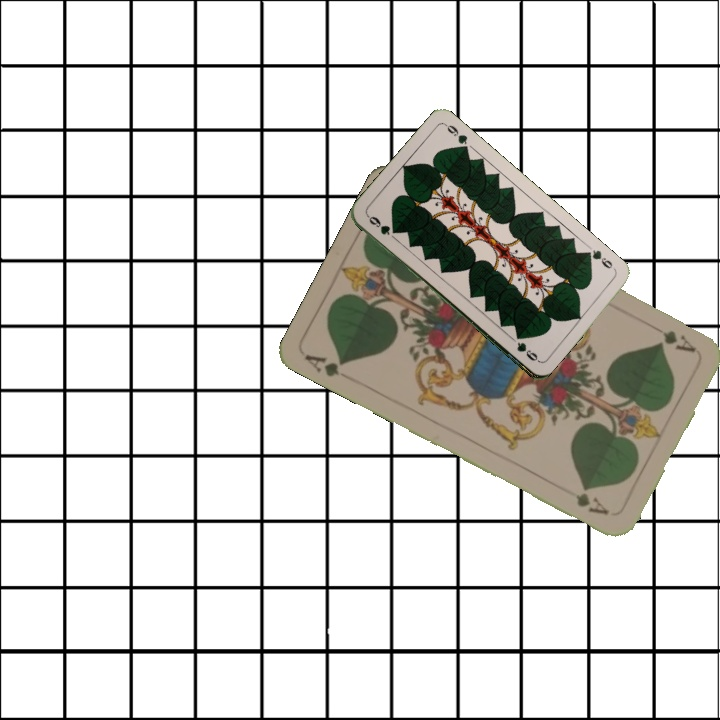G9: (581, 245, 618, 273), (363, 211, 393, 238)
GA: (645, 320, 699, 355), (300, 350, 350, 380)
